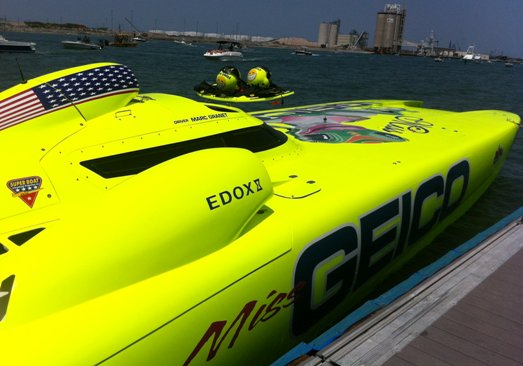geico: (289, 156, 478, 341)
